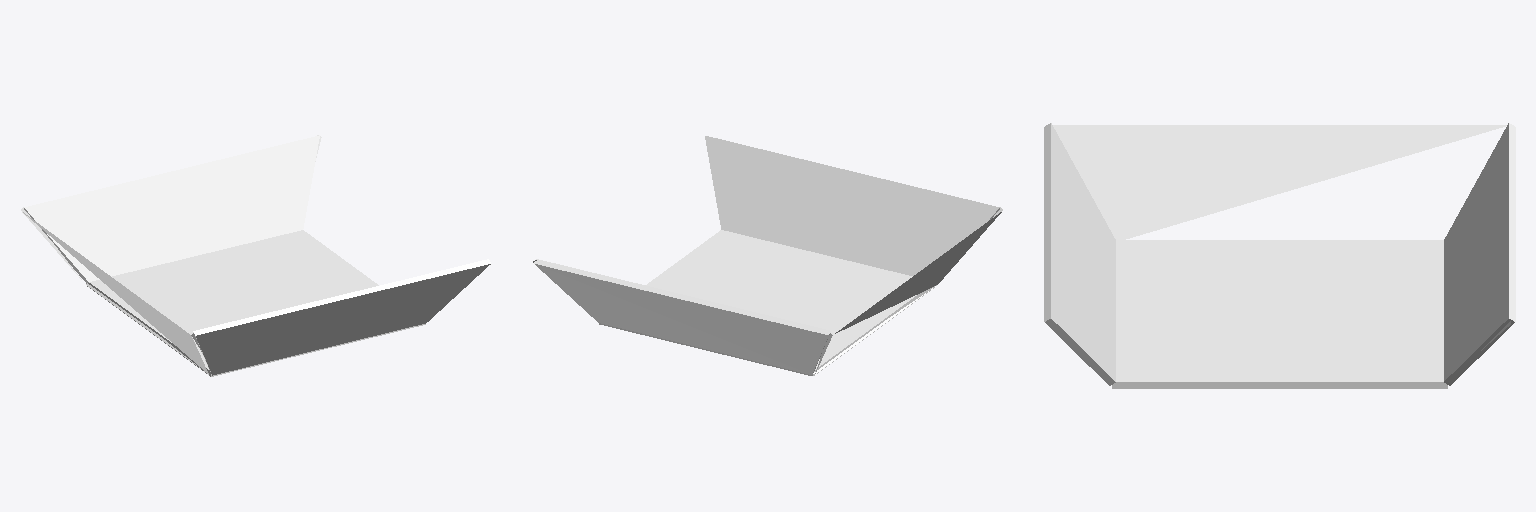
robot.urdf — tabletop:
<robot name="tabletop">
  <link name="base_link">
    <inertial>
      <origin rpy="0 0 0" xyz="0 0 0"/>
      <mass value="1"/>
      <inertia ixx="0" ixy="0" ixz="0" iyy="0" iyz="0" izz="0"/>
    </inertial>
    <visual>
      <origin rpy="0 0 0" xyz="0 0 0"/>
      <geometry>
        <mesh filename="tray_textured.obj" scale="0.5 0.5 0.5"/>
      </geometry>
      <material name="tray_material">
        <color rgba="1 1 1 1"/>
      </material>
    </visual>
     <collision>
      <origin rpy="0 0 0" xyz="0 0 0.005"/>
      <geometry>
	 			<box size=".6 .6 .02"/>
      </geometry>
    </collision>
     <collision>
      <origin rpy="0 0 0" xyz="0.25 0 0.059"/>
      <geometry>
	 			<box size=".02 .6 .15"/>
      </geometry>
    </collision>
		<collision>
      <origin rpy="0 0 0" xyz="-0.25 0 0.059"/>
      <geometry>
	 			<box size=".02 .6 .15"/>
      </geometry>
    </collision>
    <collision>
      <origin rpy="0 0 0" xyz="0 -0.25 0.059"/>
      <geometry>
	 			<box size=".6 .02 .15"/>
      </geometry>
    </collision>
    <collision>
      <origin rpy="0 0 0" xyz="0 0.25 0.059"/>
      <geometry>
	 			<box size=".6 .02 .15"/>
      </geometry>
    </collision>

  </link>
</robot>

--- What the picture shows (computed from the rendered views, not written in the file) ---
The picture shows the robot from 3 angles, left to right: view 1: azimuth 30°, elevation 25°; view 2: azimuth 150°, elevation 25°; view 3: azimuth 270°, elevation 25°; orthographic projection.
Robot: tabletop — 1 links, 0 joints (none); root link base_link; default pose: all joints at 0.
Links seen in each view (by area): view 1: base_link; view 2: base_link; view 3: base_link.
Boxes of the visible links, x1,y1,x2,y2 form: base_link: [21, 135, 490, 376]; base_link: [533, 136, 1002, 375]; base_link: [1044, 123, 1515, 388].
Bounding box of the posed robot: 0.5901 × 0.5901 × 0.1356 m (x, y, z).
Meshes: 1 distinct files referenced, 1 mesh visuals loaded (1 OBJ).